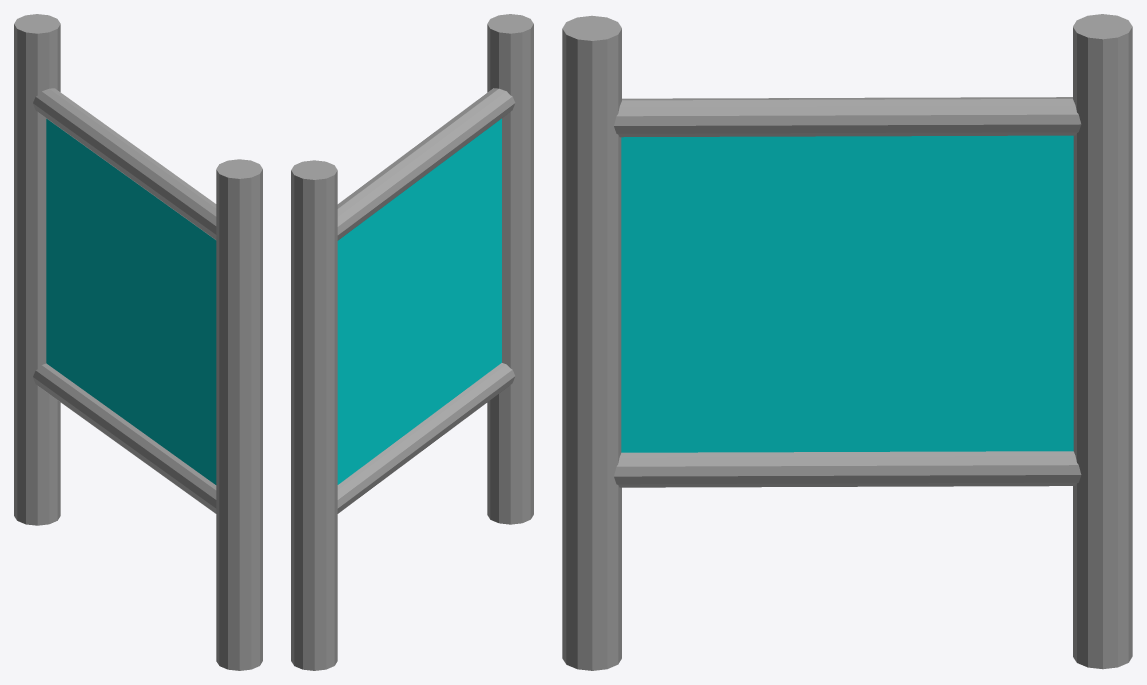
The model's file is DoorBarriers.fbx.
3 views of the same model, side by side, from view 1: azimuth 30°, elevation 25°; view 2: azimuth 150°, elevation 25°; view 3: azimuth 270°, elevation 25° (orthographic). The views are drawn at different scales.
Visible parts, largest first — view 1: Door; view 2: Door; view 3: Door.
Boxes of the visible parts, x1,y1,x2,y2 form: Door: (14,14,262,670); Door: (291,14,533,670); Door: (562,14,1132,670).
Size of the model in its own units: 0.4969 by 5.4 by 4.43.
